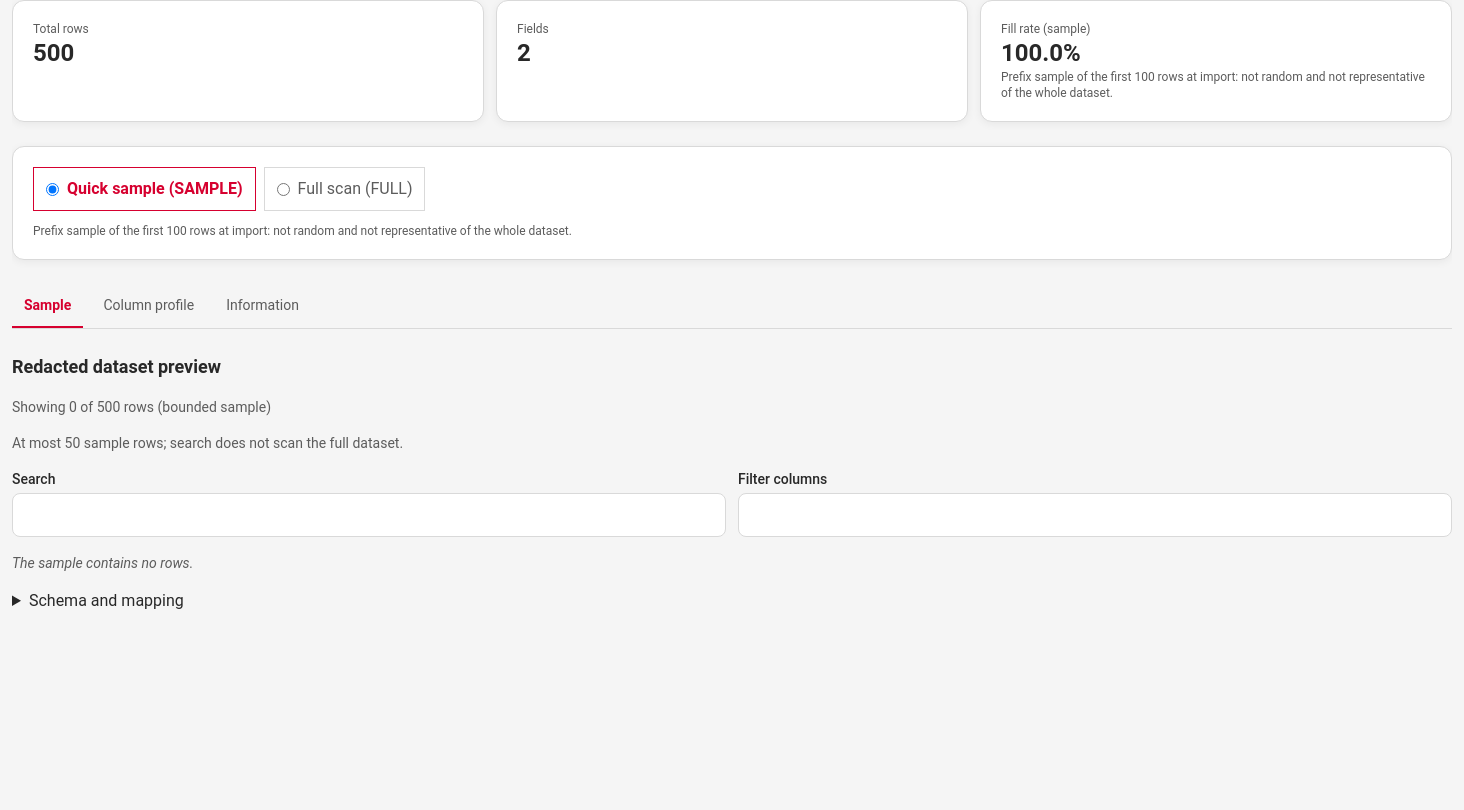
shows unknown FULL counts as unavailable rather than 0 and a FAILED error code
Click the tab "Column profile" at [149, 306], box [91,284,206,328]
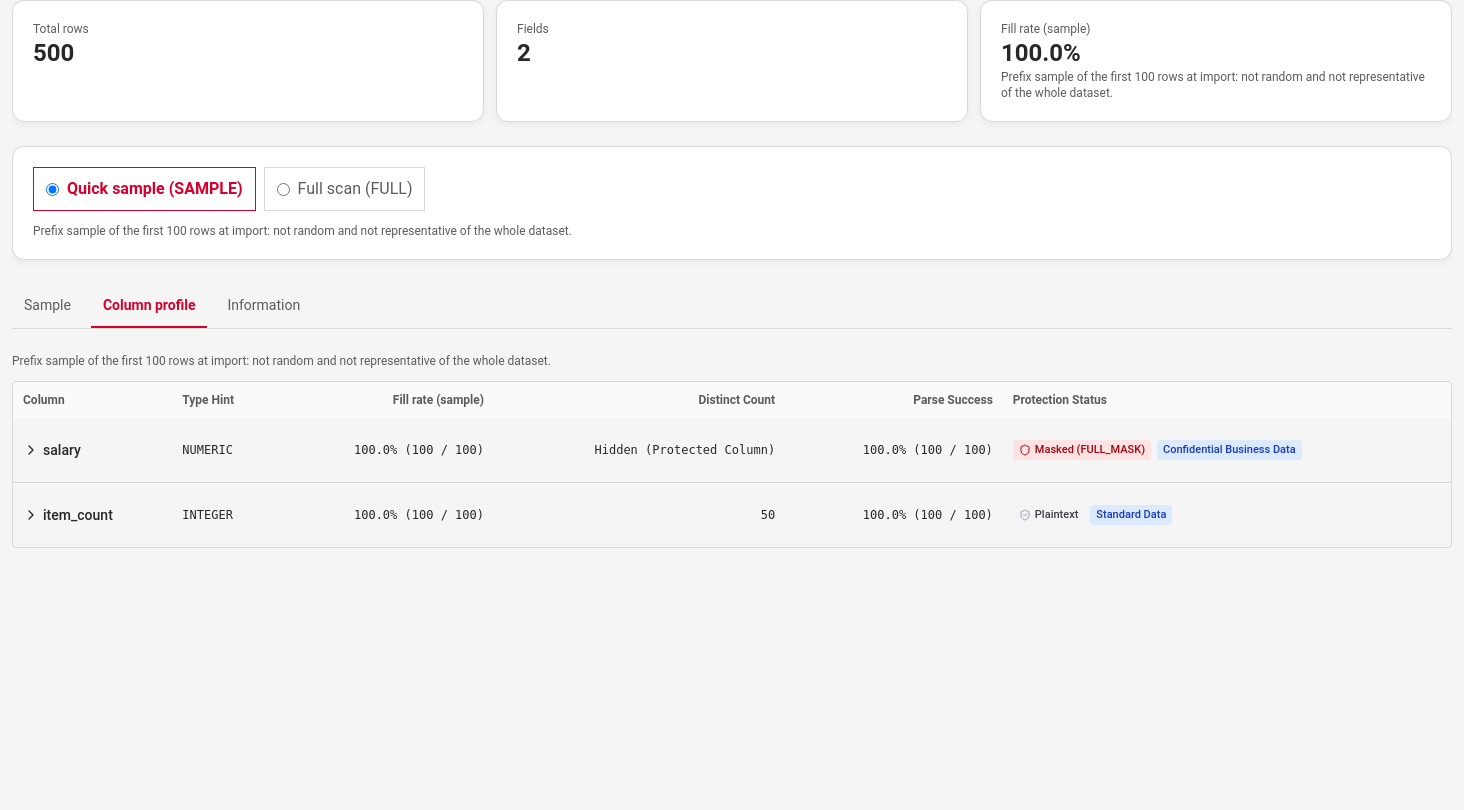
Click the radio button labelled "Full scan (FULL)" at [283, 189], box [277,182,290,196]
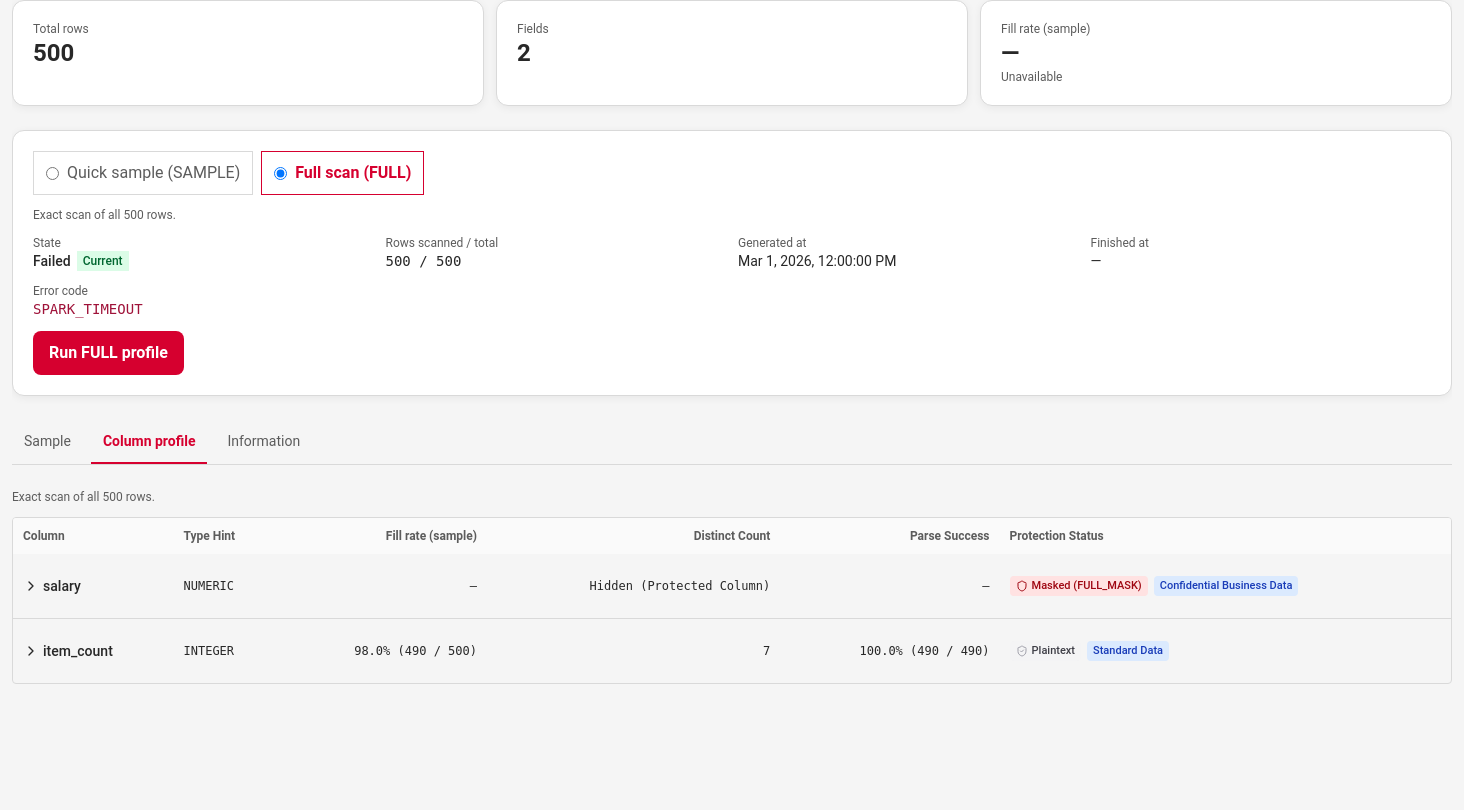
Check: the text "SPARK_TIMEOUT" is shown, box [33,301,143,317]
Check: the button "Run FULL profile" is shown, box [33,331,184,375]
Check: the 1st cell "—" is shown, box [278,554,487,618]
